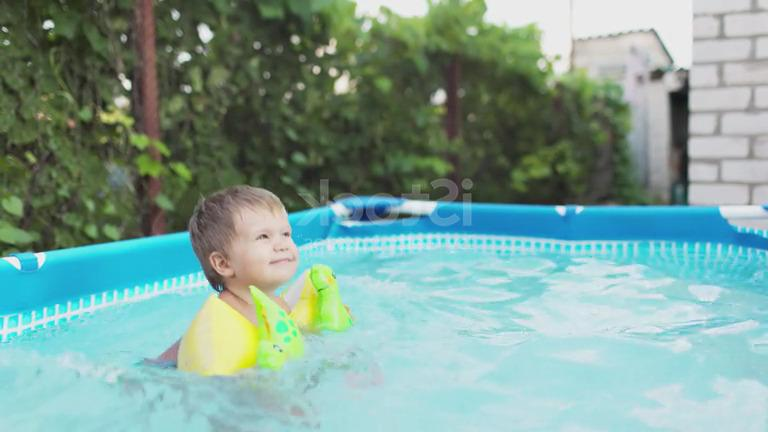Swimming: (78, 133, 467, 424)
